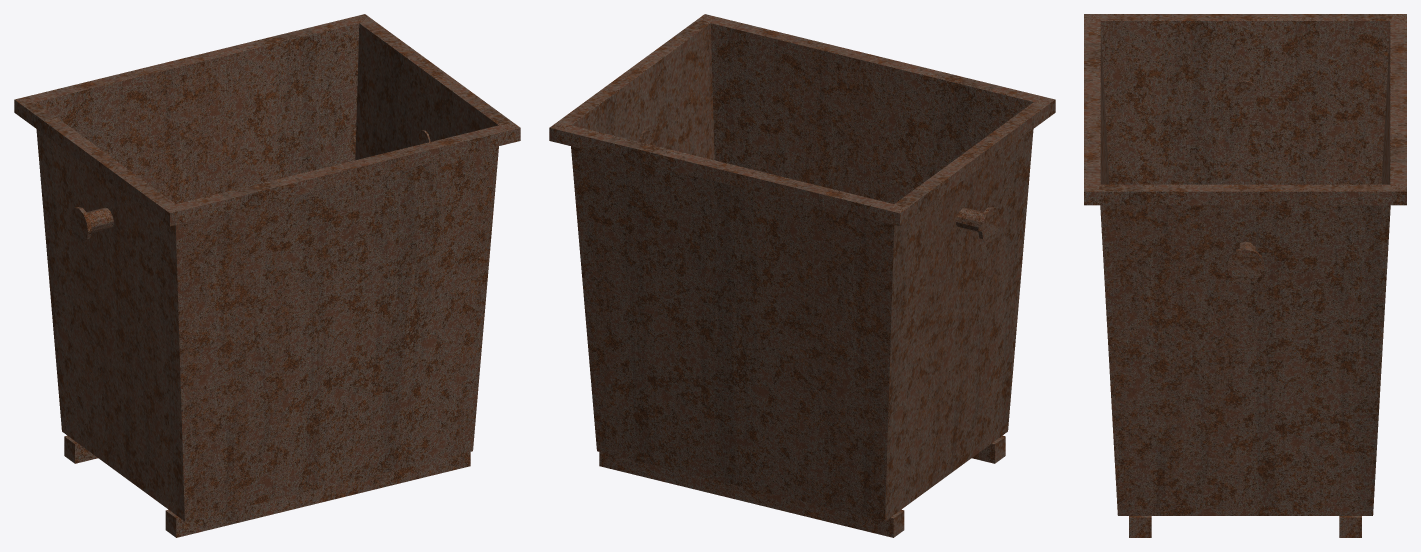
File: container075_rusty_web.glb
3 renders of one model, left to right at view 1: azimuth 30°, elevation 25°; view 2: azimuth 150°, elevation 25°; view 3: azimuth 270°, elevation 25°, orthographic. The views are drawn at different scales.
Parts seen in each view (by area): view 1: Container075_rusty_Mesh; view 2: Container075_rusty_Mesh; view 3: Container075_rusty_Mesh.
Boxes of the visible parts, <box> form: Container075_rusty_Mesh: <box>14,14,520,537</box>; Container075_rusty_Mesh: <box>549,14,1055,537</box>; Container075_rusty_Mesh: <box>1084,14,1406,537</box>.
Bounding box in the file's own units: 1.2 × 1.06 × 0.86.
Materials: 1 (1 with a texture image).
